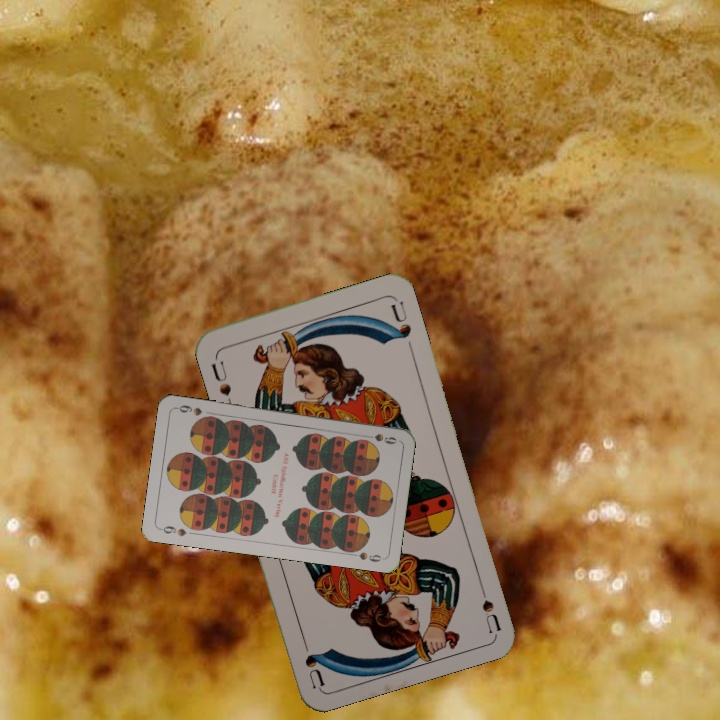S9: (359, 429, 399, 447), (156, 522, 189, 539)
SU: (474, 575, 503, 634), (207, 357, 236, 410)
